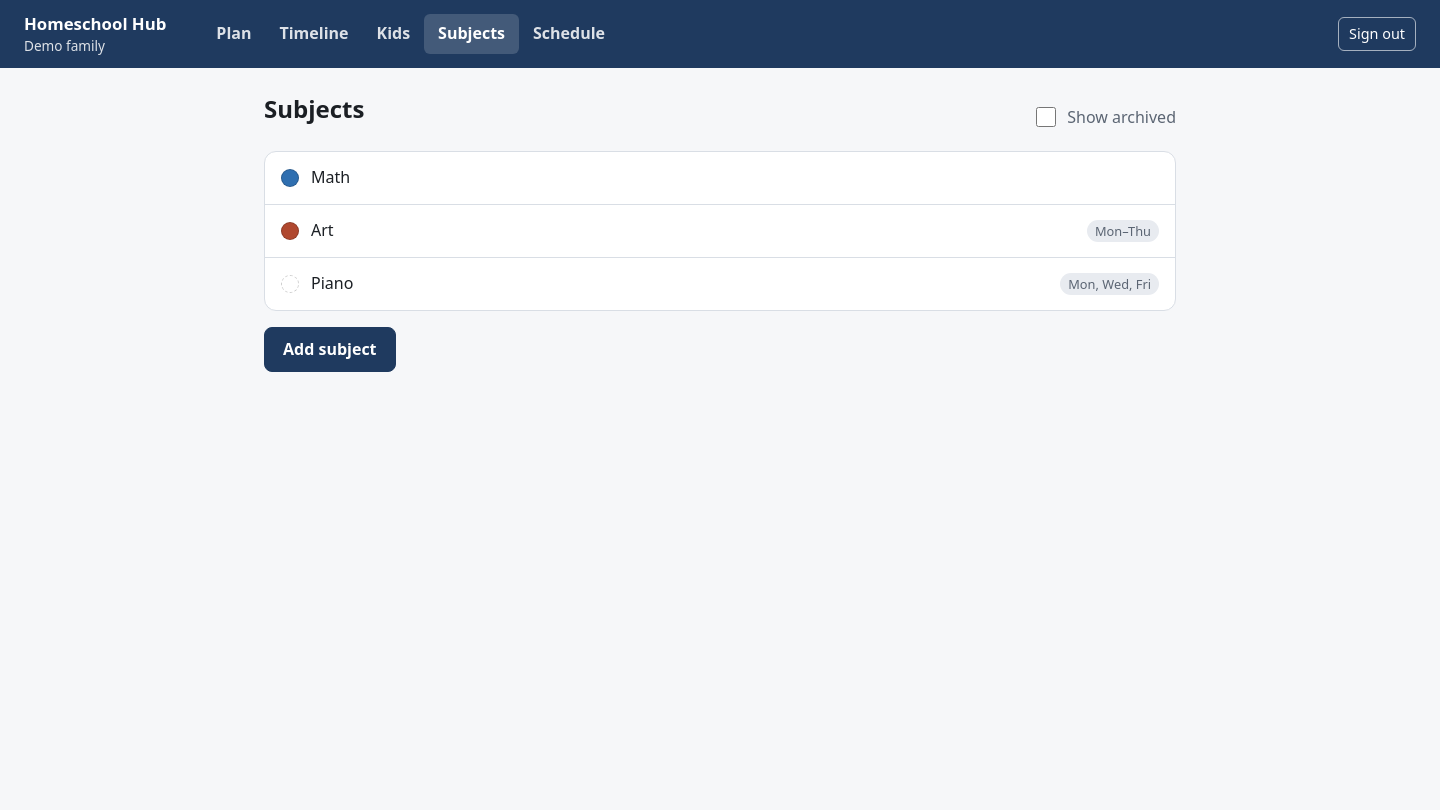
Subject usual days › setting Mon-Thu saves [1,2,3,4]; selecting every school day again saves null
The width and height of the screenshot is (1440, 810).
Expected: the list named "Subjects" is shown, [264,151,1176,311]
Click the button "Math": (331, 177) [265,152,1175,204]
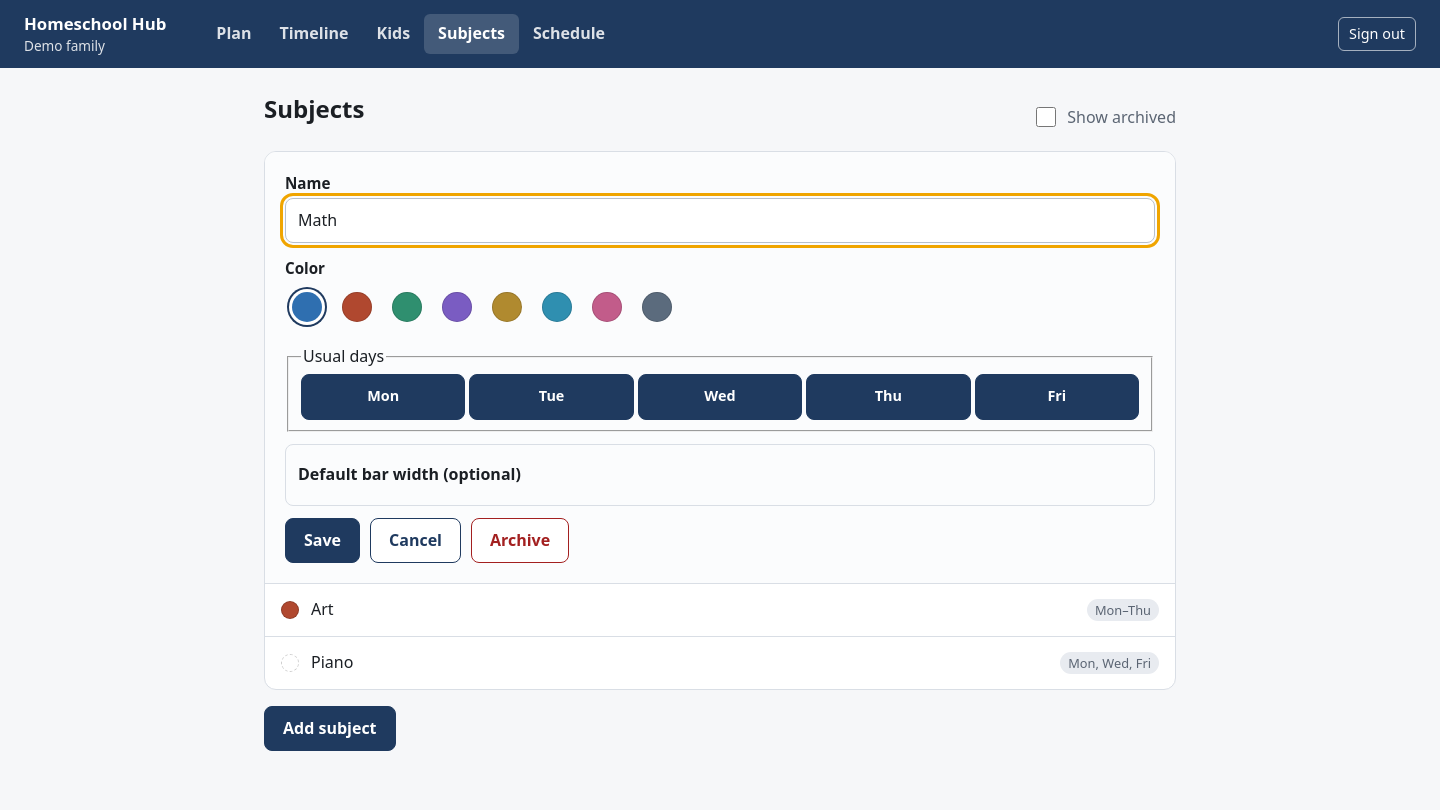
Click the checkbox named "Friday": (1057, 397) [975,374,1139,420]
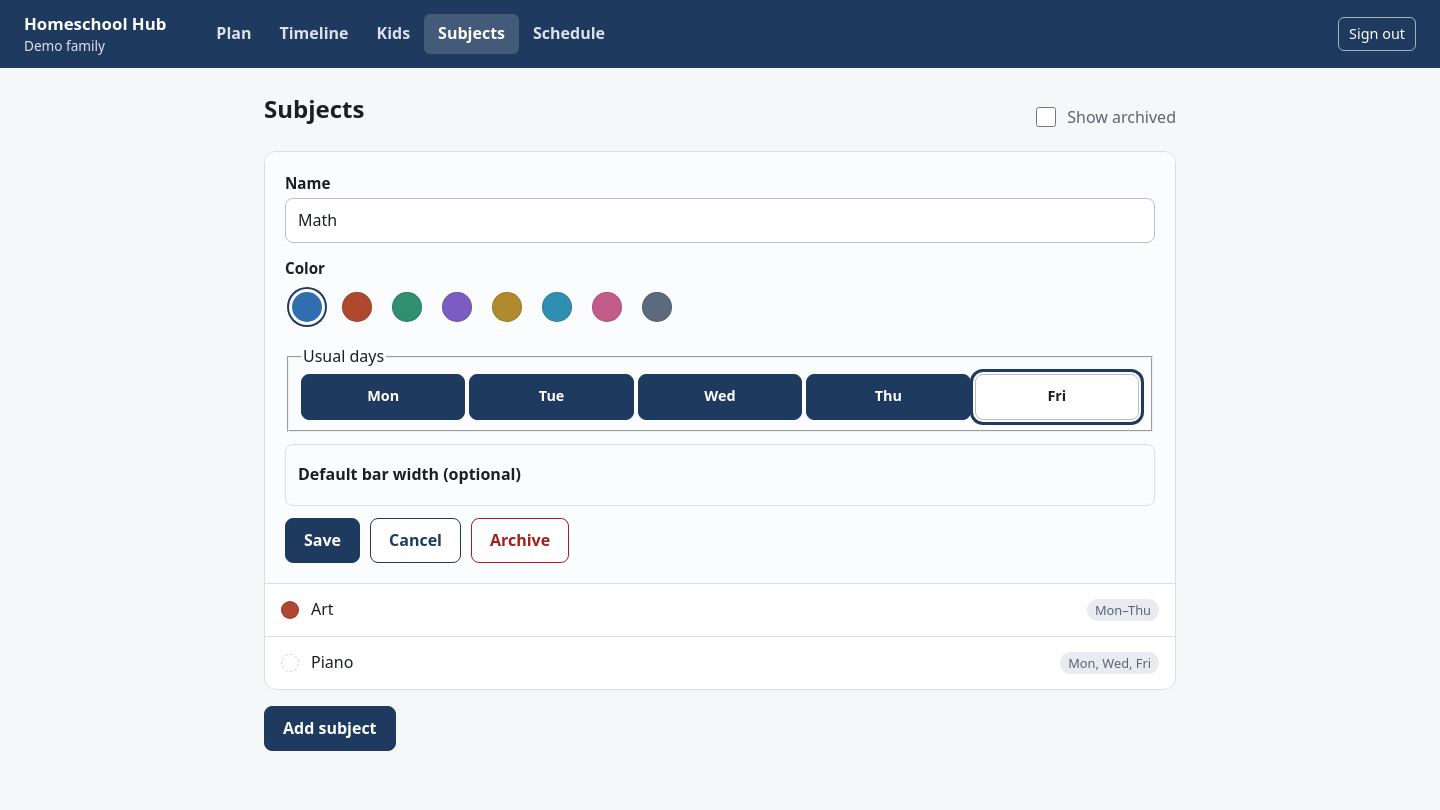
Click the button "Save": (322, 540) [285,518,360,563]
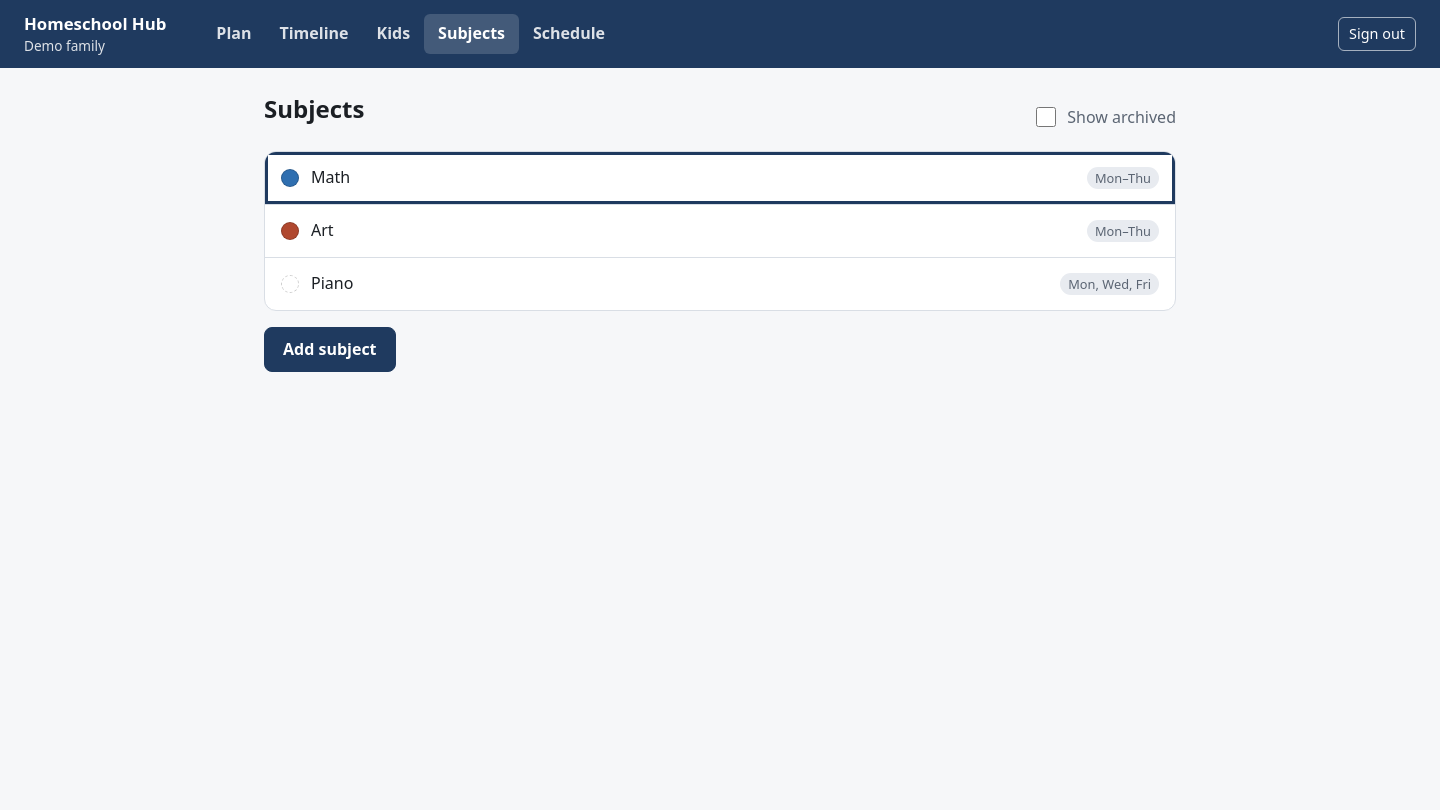
Expected: the button "Math Mon–Thu" is shown
Click the button "Math Mon–Thu": (331, 177) [265,152,1175,204]
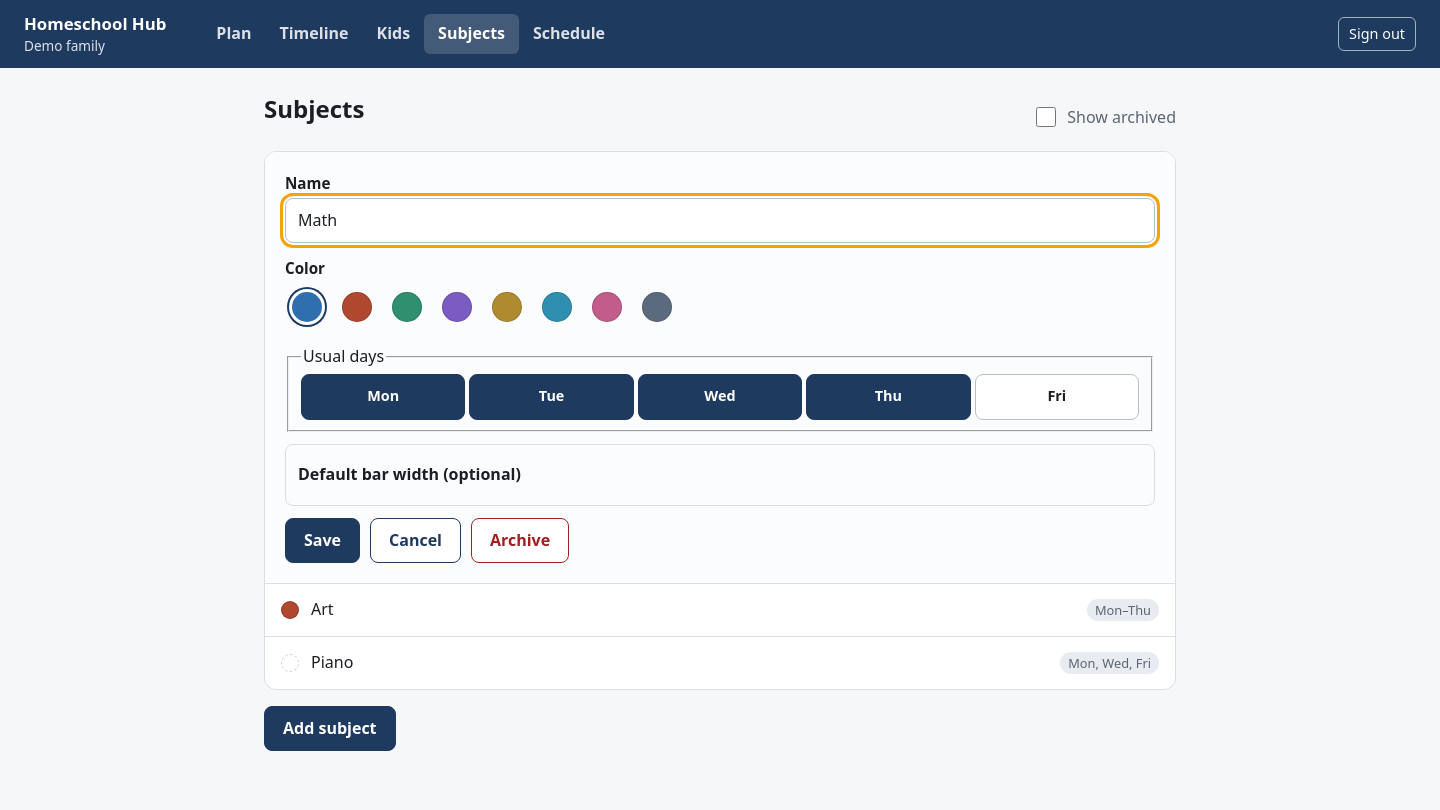
Expected: the checkbox named "Friday" is not checked
Click the checkbox named "Friday": (1057, 397) [975,374,1139,420]
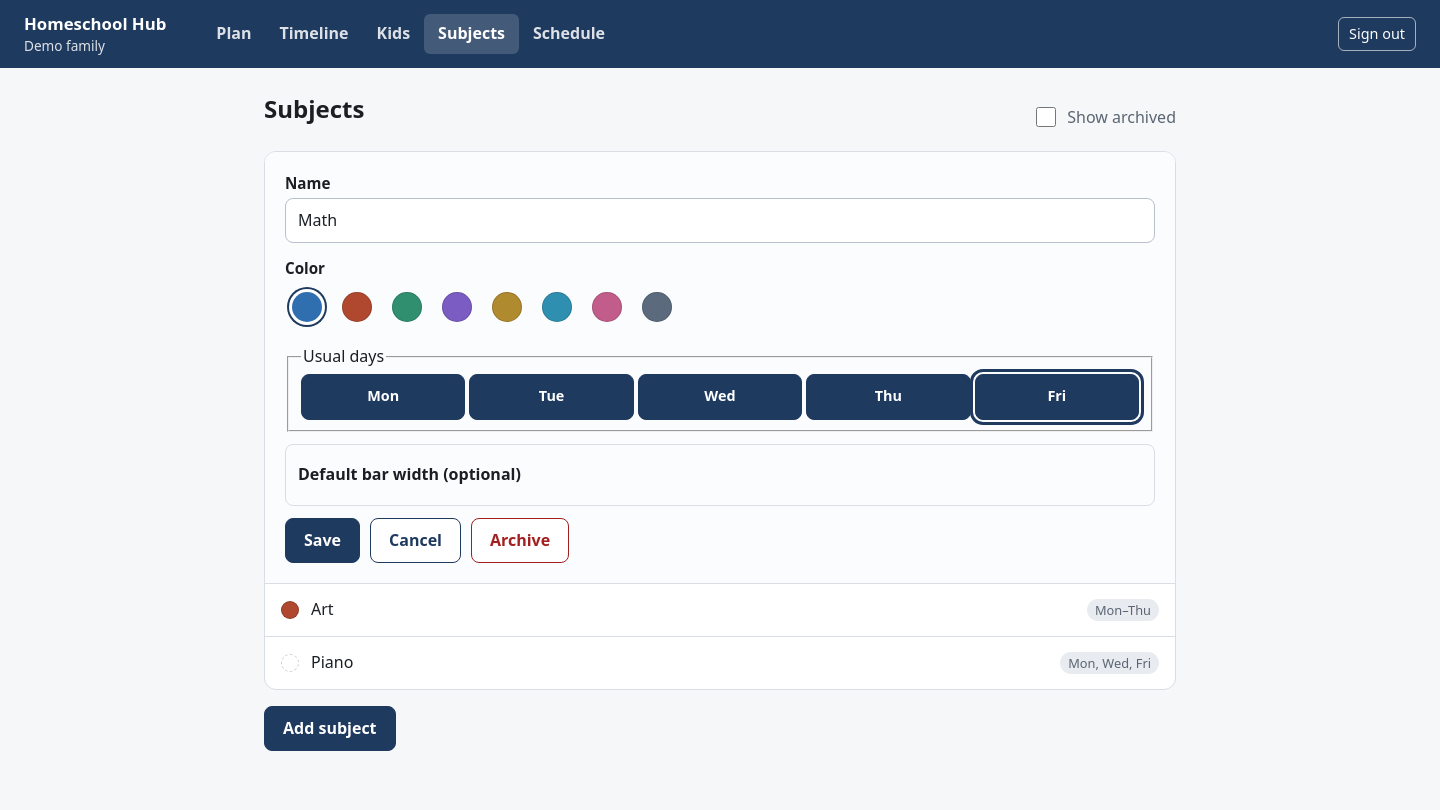
Click the button "Save": (322, 540) [285,518,360,563]
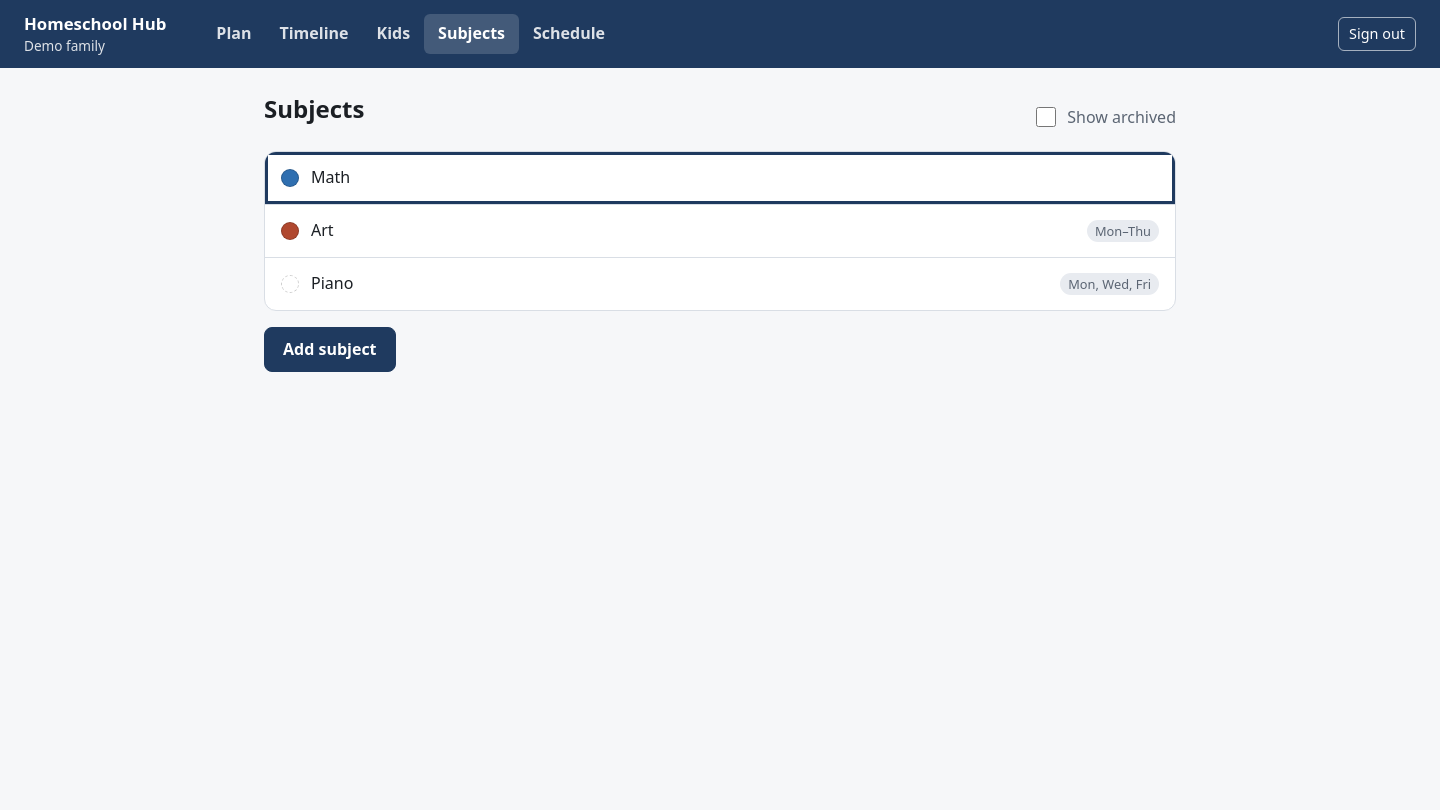
Expected: the button "Math" is shown, [265,152,1175,204]
